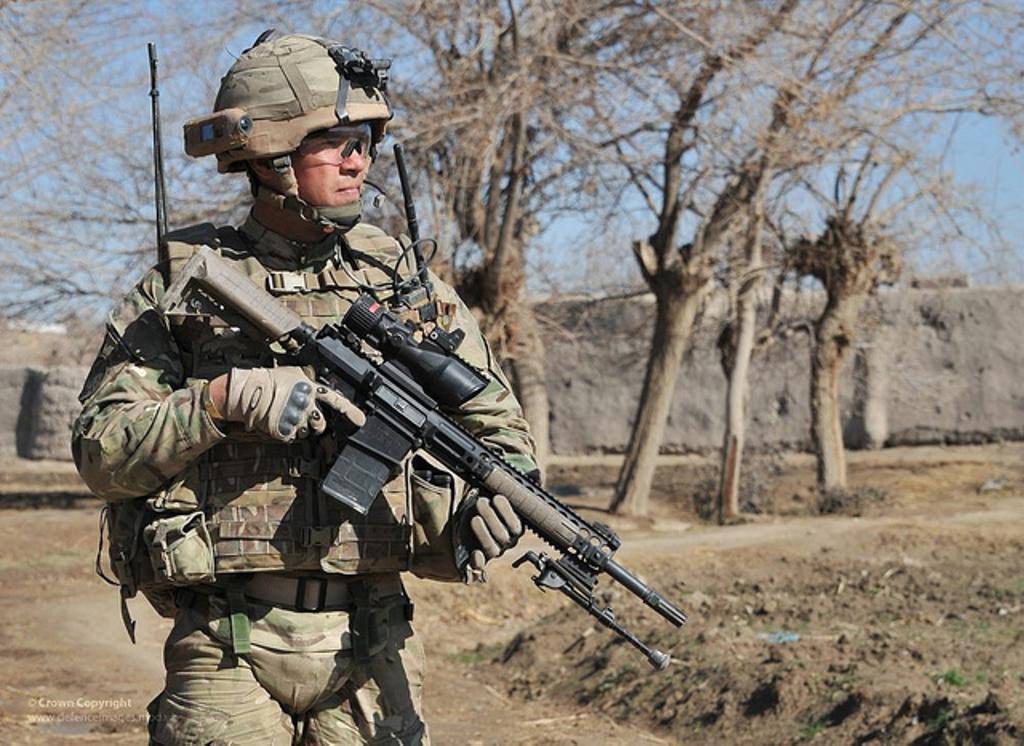face: (293, 91, 369, 223)
